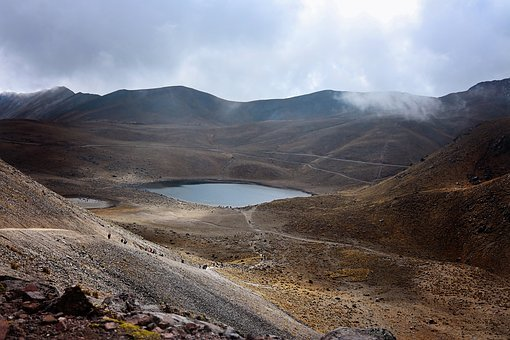mountain: (7, 89, 510, 335)
sky: (4, 4, 492, 95)
